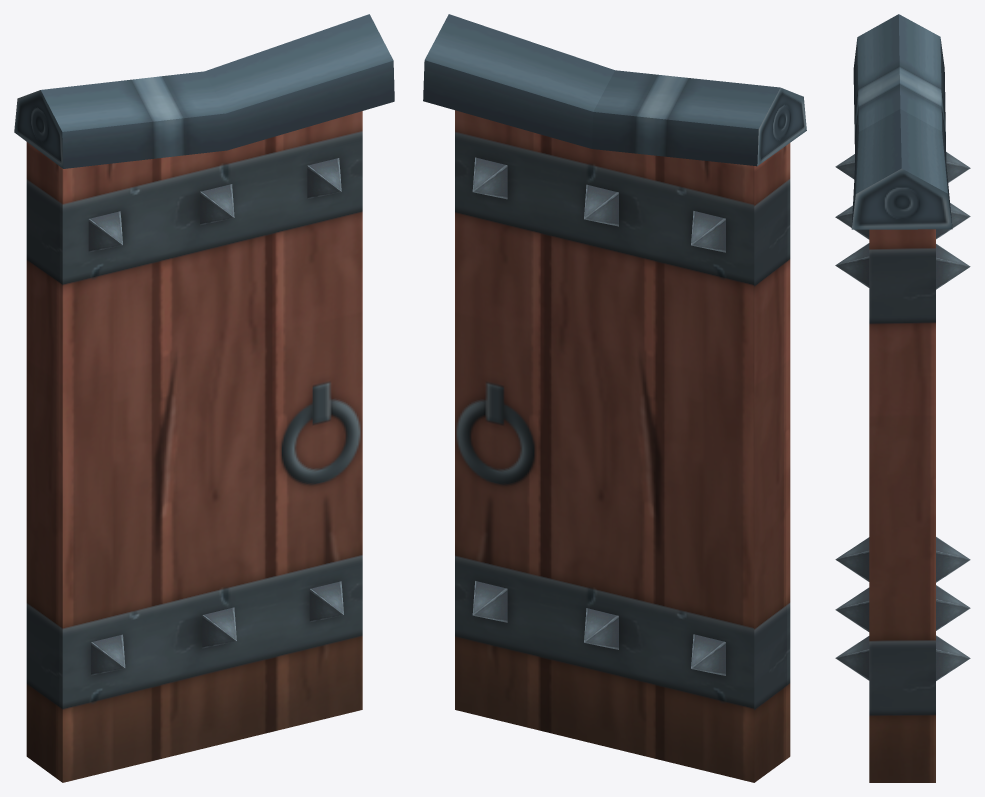
File: door_right.fbx
The picture shows the model from 3 angles, left to right: view 1: azimuth 30°, elevation 25°; view 2: azimuth 150°, elevation 25°; view 3: azimuth 270°, elevation 25°; orthographic projection. The views are drawn at different scales.
Parts seen in each view (by area): view 1: door_right:Mesh; view 2: door_right:Mesh; view 3: door_right:Mesh.
Boxes of the visible parts, <box> form: door_right:Mesh: <box>14,14,394,782</box>; door_right:Mesh: <box>423,14,806,782</box>; door_right:Mesh: <box>835,14,970,782</box>.
Size of the model in its own units: 1.37 by 2.69 by 0.5241.
Materials: 1 (1 with a texture image).
